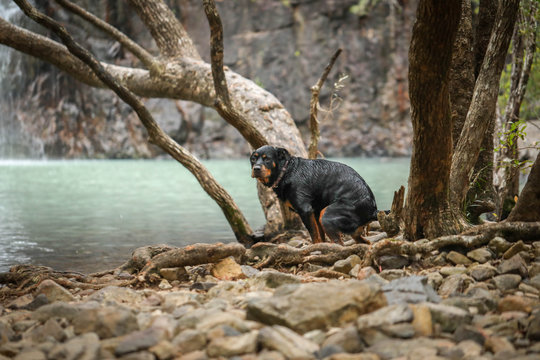dog_pooping: (248, 143, 381, 248)
